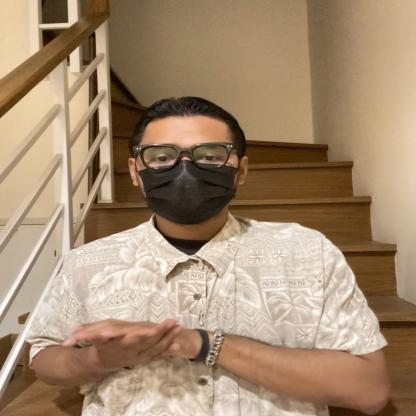Love: (45, 296, 246, 390)
